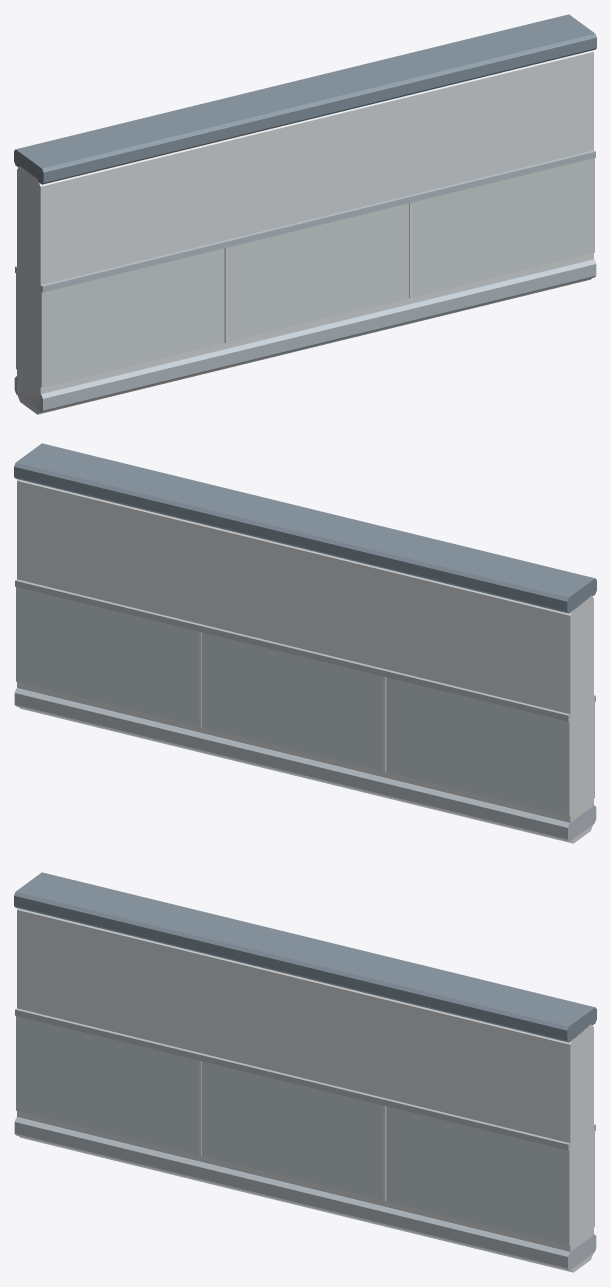
Rendered from wall_school_classroom.glb.
3 renders of one model, top to bottom at view 1: azimuth 30°, elevation 25°; view 2: azimuth 150°, elevation 25°; view 3: azimuth 330°, elevation 25°, orthographic.
Parts seen in each view (by area): view 1: Part_001, Part_005, Part_002, Part_003, Part_011; view 2: Part_001, Part_004, Part_002, Part_003, Part_010; view 3: Part_001, Part_005, Part_002, Part_003, Part_011.
Boxes of the visible parts, x1,y1,x2,y2 form: Part_001: (17, 50, 593, 414); Part_005: (40, 158, 594, 387); Part_002: (14, 14, 596, 184); Part_003: (14, 259, 596, 412); Part_011: (40, 150, 595, 292); Part_001: (17, 479, 593, 843); Part_004: (16, 587, 570, 816); Part_002: (14, 443, 596, 613); Part_003: (14, 688, 596, 841); Part_010: (15, 579, 570, 721); Part_001: (17, 908, 593, 1272); Part_005: (16, 1016, 570, 1245); Part_002: (14, 872, 596, 1042); Part_003: (14, 1117, 596, 1270); Part_011: (15, 1008, 570, 1150).
Bounding box in the file's own units: 2.7 × 1.16 × 0.25.
